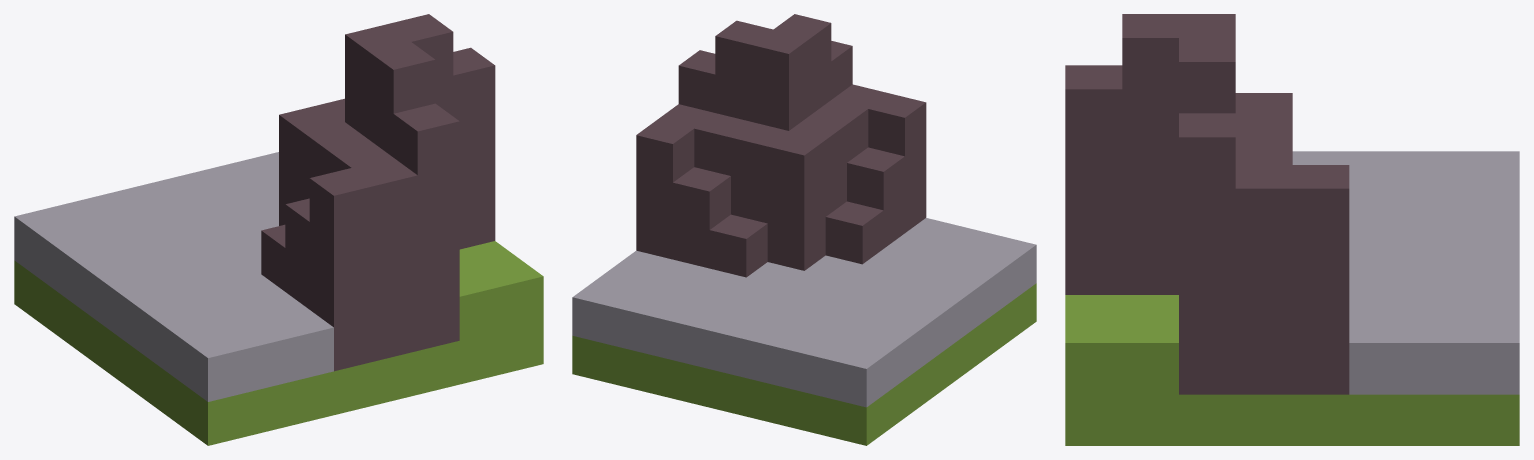
File: wall_corner.obj
3 views of the same model, side by side, from view 1: azimuth 30°, elevation 25°; view 2: azimuth 150°, elevation 25°; view 3: azimuth 270°, elevation 25° (orthographic). The views are drawn at different scales.
Size of the model in its own units: 0.8 by 0.7 by 0.8.
1 material, 1 textured.
